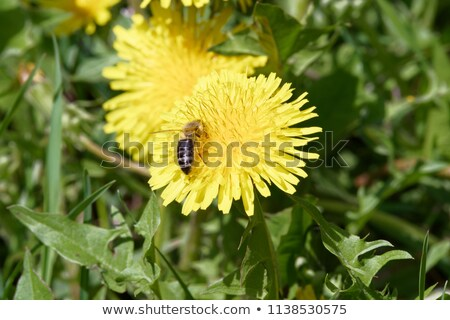dandelion: (171, 85, 306, 203)
